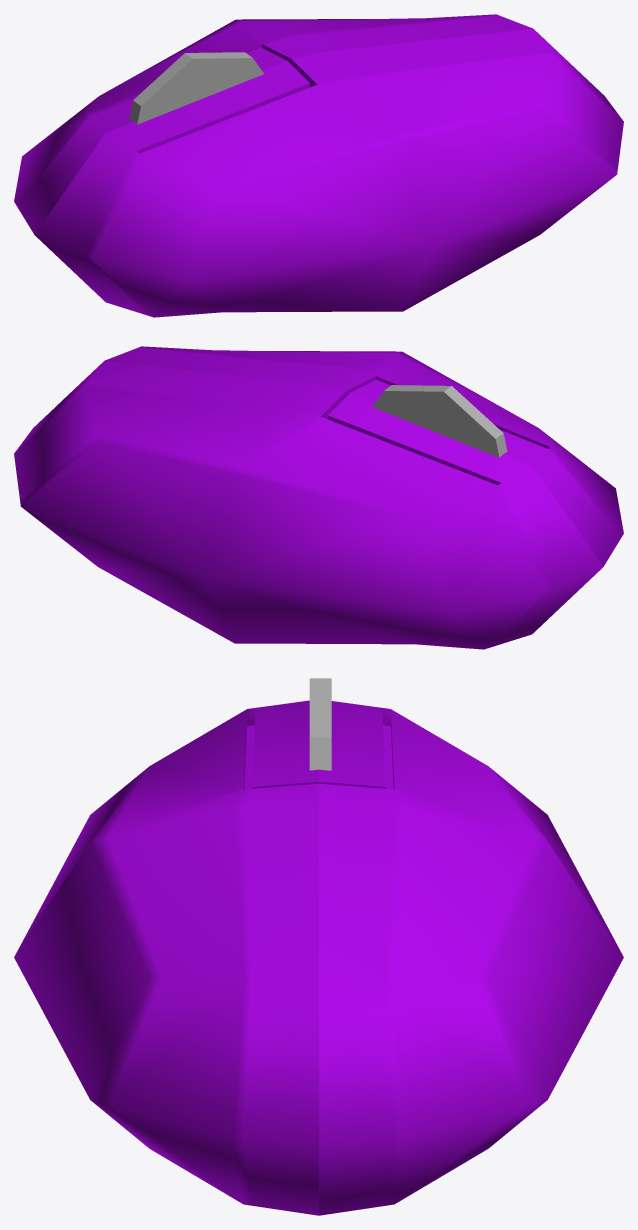
File: sm_computer_mouse_low.fbx
The picture shows the model from 3 angles, top to bottom: view 1: azimuth 30°, elevation 25°; view 2: azimuth 150°, elevation 25°; view 3: azimuth 270°, elevation 25°; orthographic projection. The views are drawn at different scales.
Parts seen in each view (by area): view 1: polySurface114; view 2: polySurface114; view 3: polySurface114.
Part boxes in pixels (left/top/right/bottom): polySurface114: left=14, top=14, right=623, bottom=317; polySurface114: left=14, top=346, right=623, bottom=649; polySurface114: left=14, top=678, right=623, bottom=1215.
Size of the model in its own units: 43.3 by 16.37 by 29.37.
